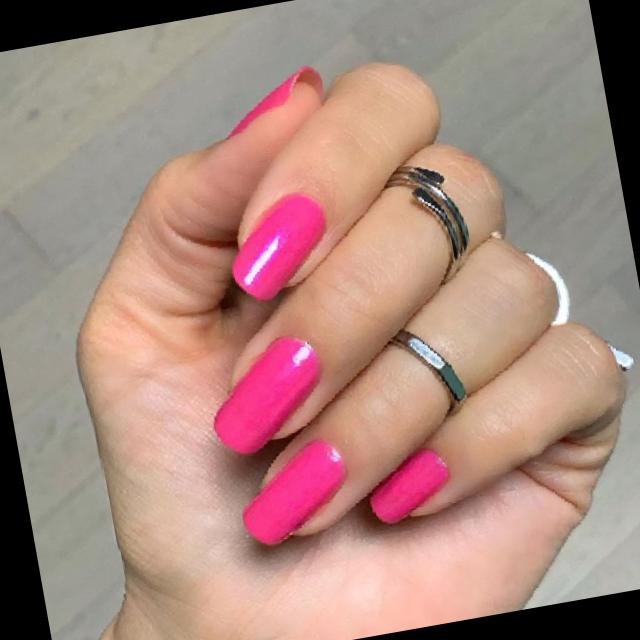Nail: (215, 336, 320, 452), (243, 440, 346, 544), (232, 192, 325, 300), (370, 449, 448, 523), (225, 70, 301, 138)
